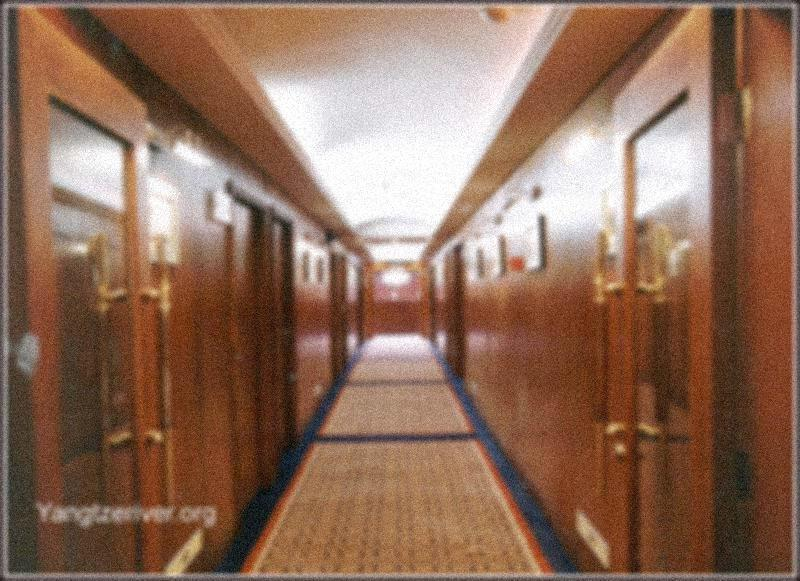Puerta: (7, 101, 150, 569), (609, 89, 733, 572), (230, 190, 270, 497), (278, 220, 291, 464), (452, 249, 464, 382)
